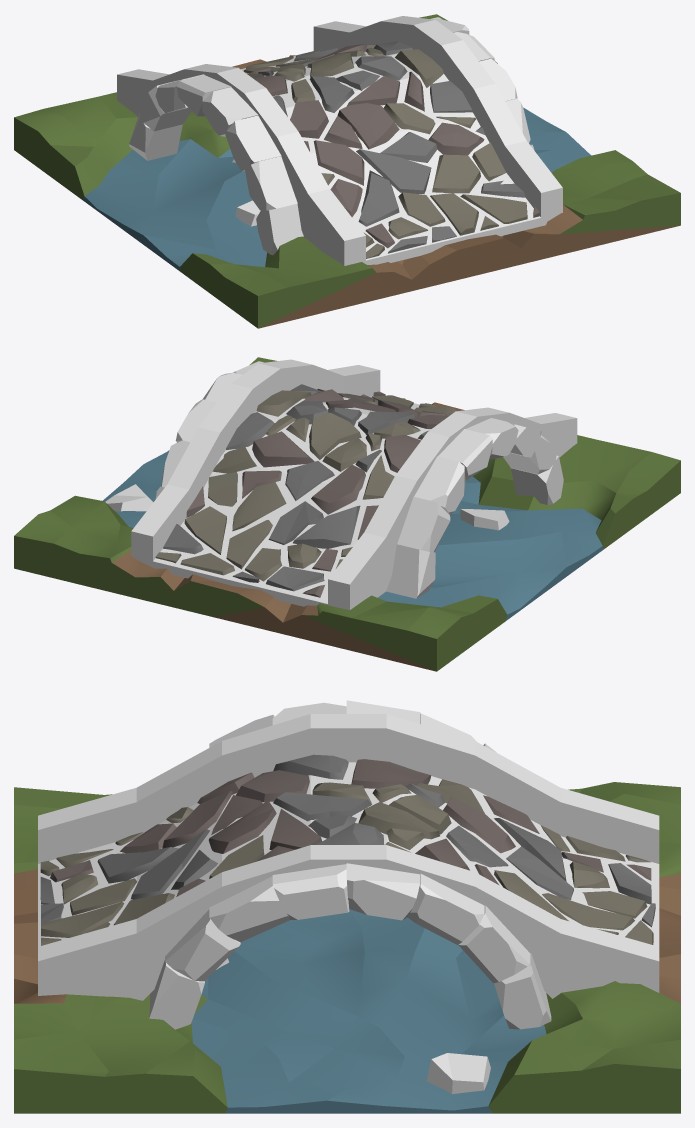
The model's file is Bridge_V.fbx.
The picture shows the model from 3 angles, top to bottom: view 1: azimuth 30°, elevation 25°; view 2: azimuth 150°, elevation 25°; view 3: azimuth 270°, elevation 25°; orthographic projection. The views are drawn at different scales.
Parts seen in each view (by area): view 1: Bridge_V.001; view 2: Bridge_V.001; view 3: Bridge_V.001.
Boxes of the visible parts, bbox=[...] form: Bridge_V.001: bbox=[14, 14, 680, 328]; Bridge_V.001: bbox=[14, 357, 680, 671]; Bridge_V.001: bbox=[14, 700, 680, 1113].
Bounding box in the file's own units: 147 × 44.02 × 147.
